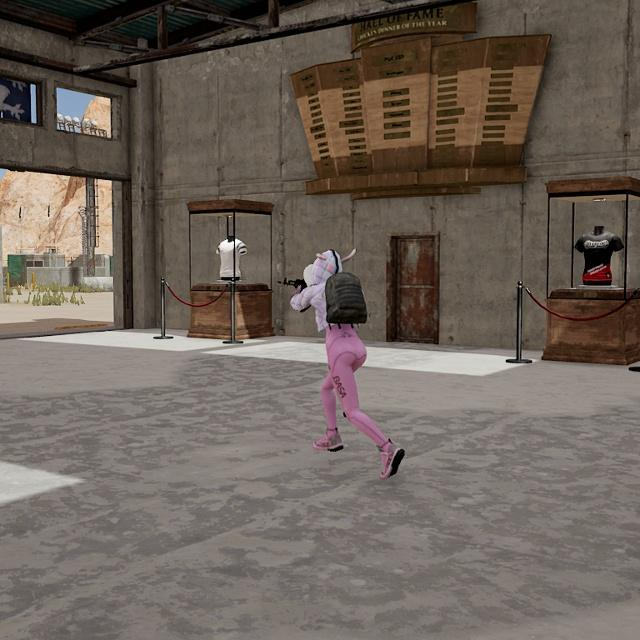head: (304, 245, 348, 295)
people: (293, 242, 409, 482)
